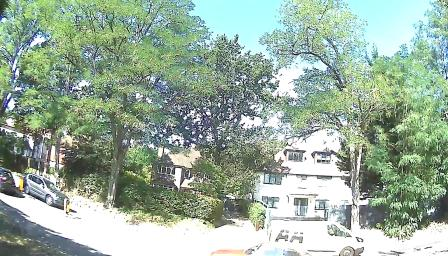Cars: (258, 218, 367, 253), (25, 170, 70, 208), (219, 240, 306, 256), (0, 168, 20, 196)
